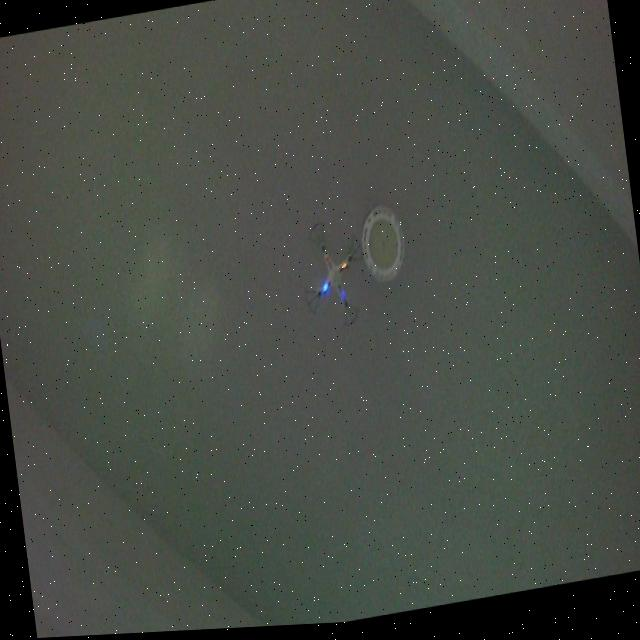drone: (292, 211, 376, 342)
